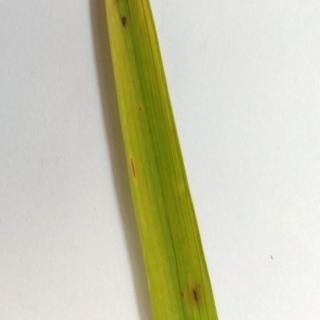bercak-Cokelat: (124, 156, 143, 184), (184, 281, 200, 313), (136, 99, 152, 121), (120, 12, 132, 34)
